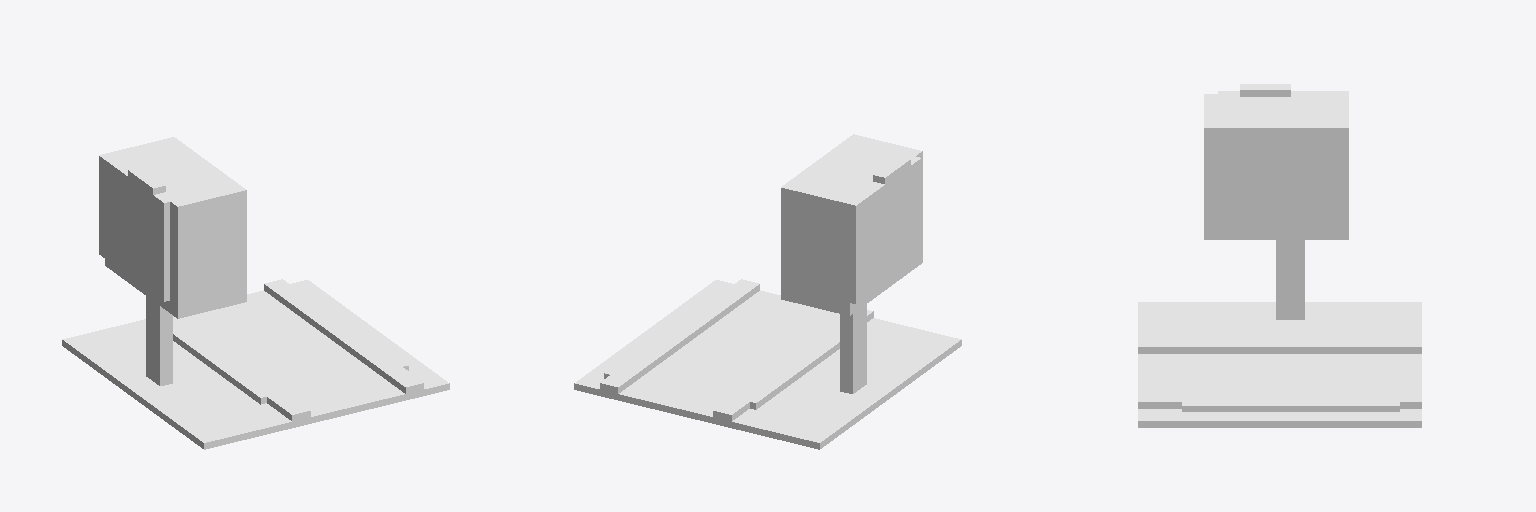
The model's file is nature.obj.
3 views of the same model, side by side, from view 1: azimuth 30°, elevation 25°; view 2: azimuth 150°, elevation 25°; view 3: azimuth 270°, elevation 25° (orthographic).
Visible parts, largest first — view 1: object 1; view 2: object 1; view 3: object 1.
Boxes of the visible parts, <box> form: object 1: <box>62,137,449,449</box>; object 1: <box>574,134,961,449</box>; object 1: <box>1138,84,1421,427</box>.
Size of the model in its own units: 3.9 by 3.4 by 3.9.